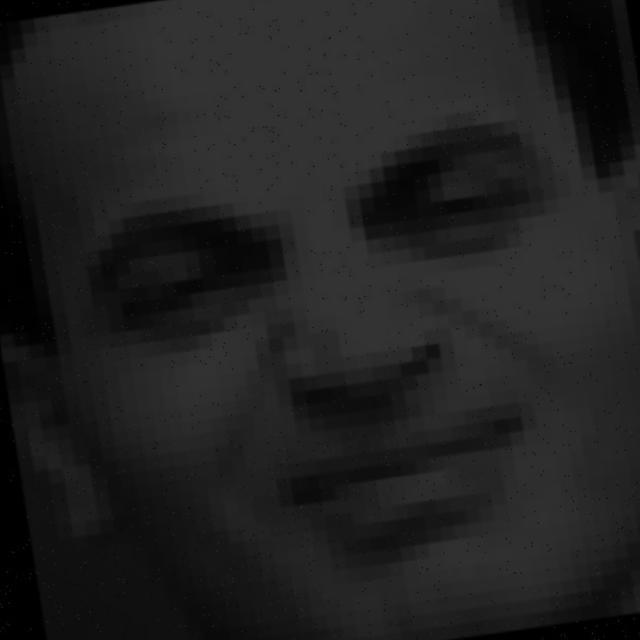Disgust: (30, 125, 640, 555)
